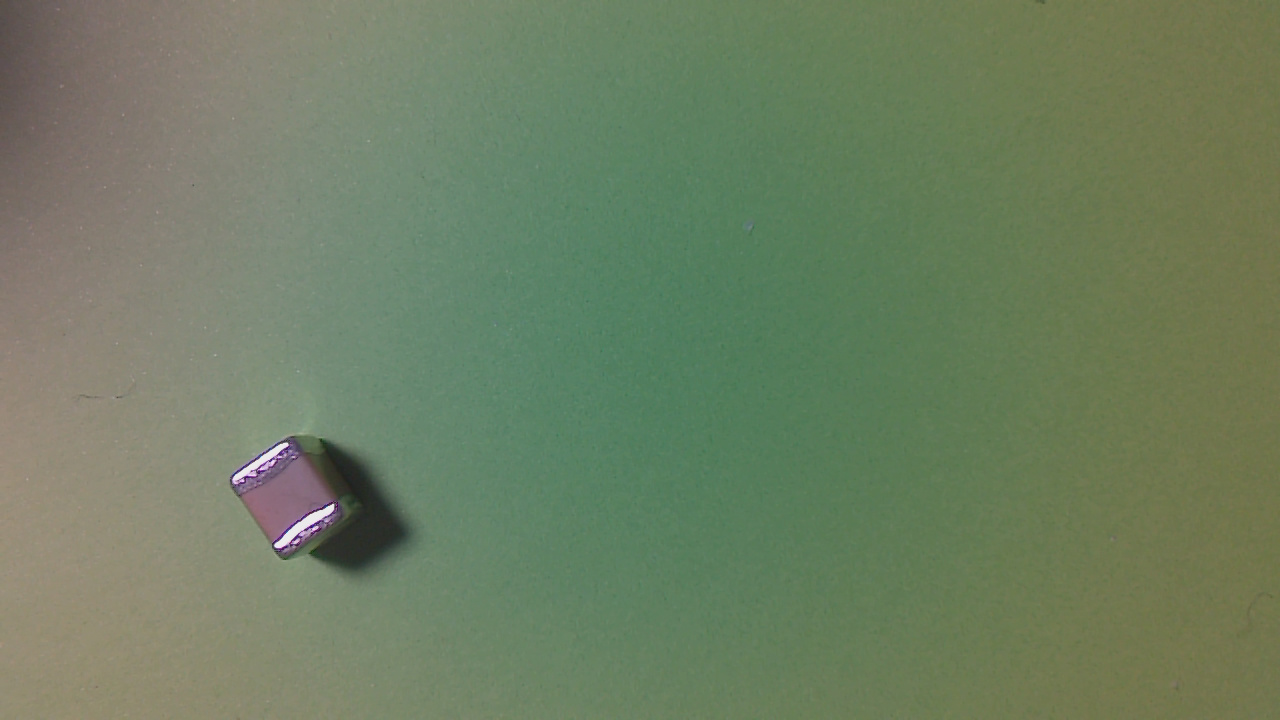Condensator: (233, 436, 355, 570)
